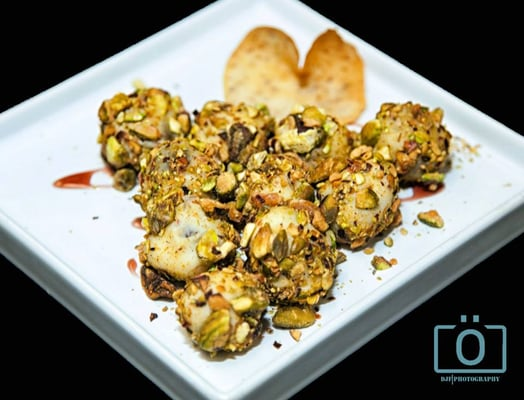curry: (1, 2, 521, 393)
